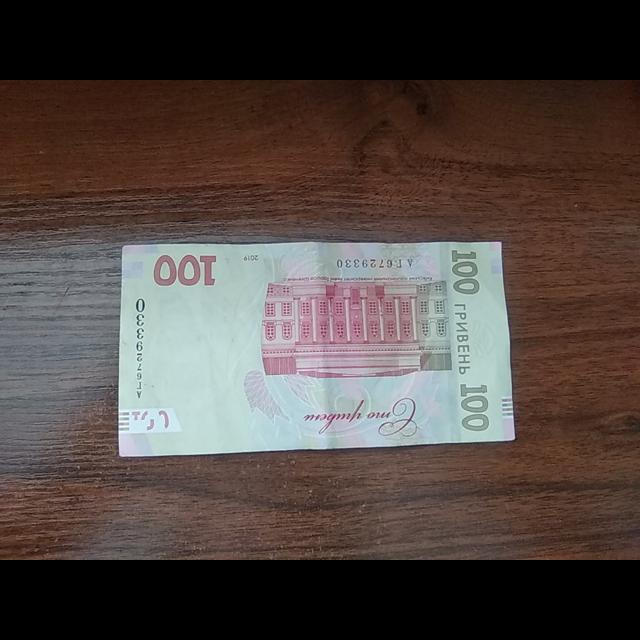100uah: (118, 239, 515, 458)
